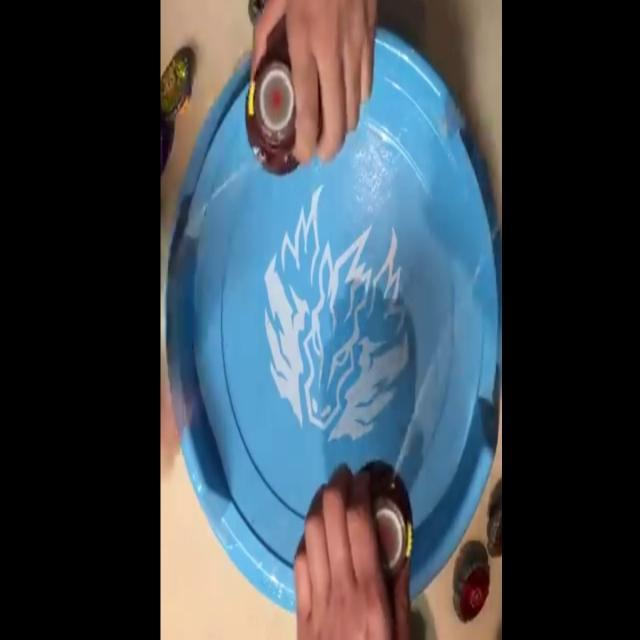Beyblade: (453, 562, 489, 622), (160, 60, 190, 119)
